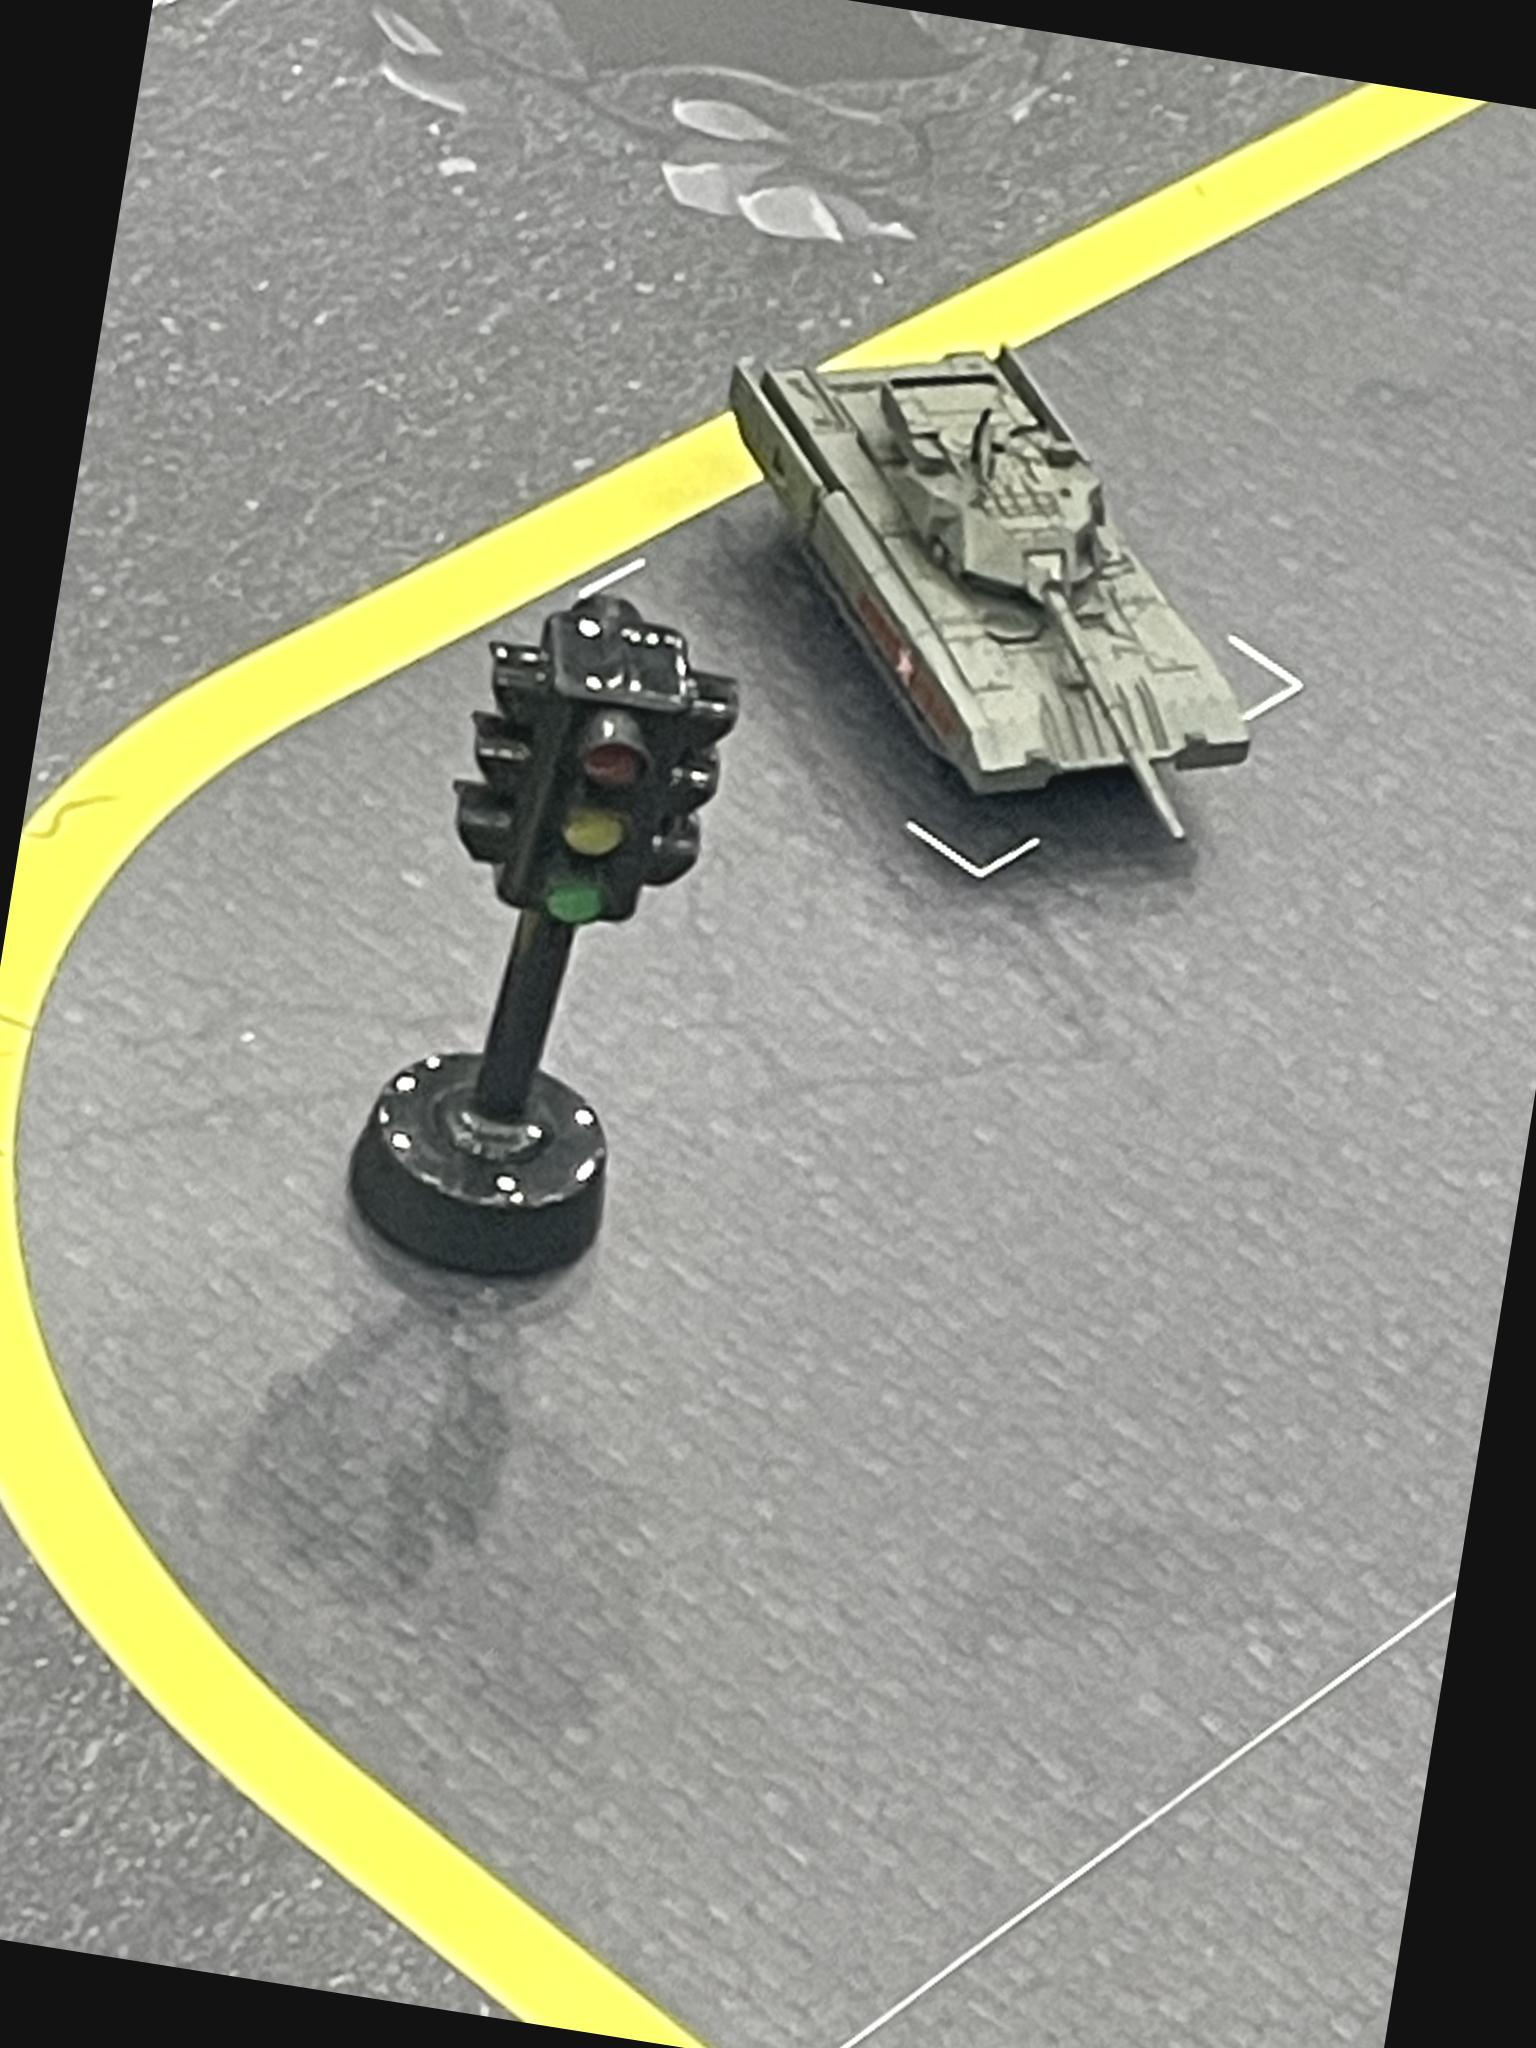Tank: (653, 292, 1315, 874)
